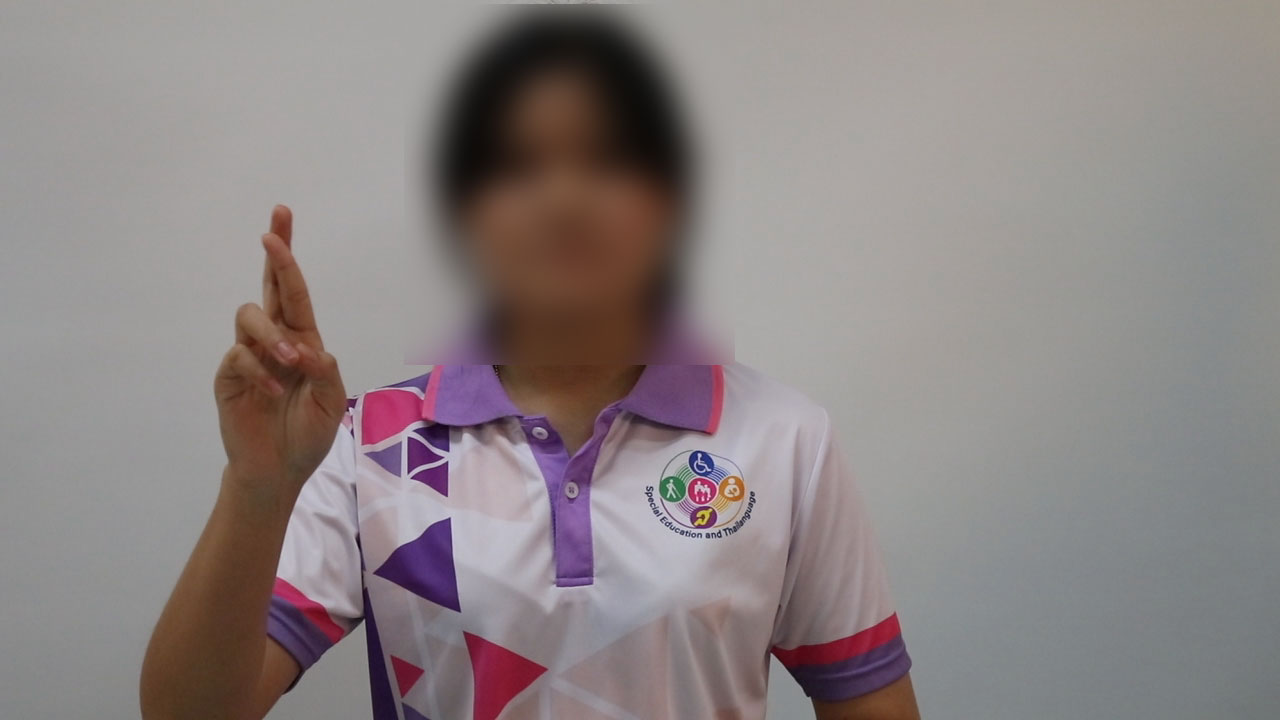rao: (199, 199, 358, 488)
